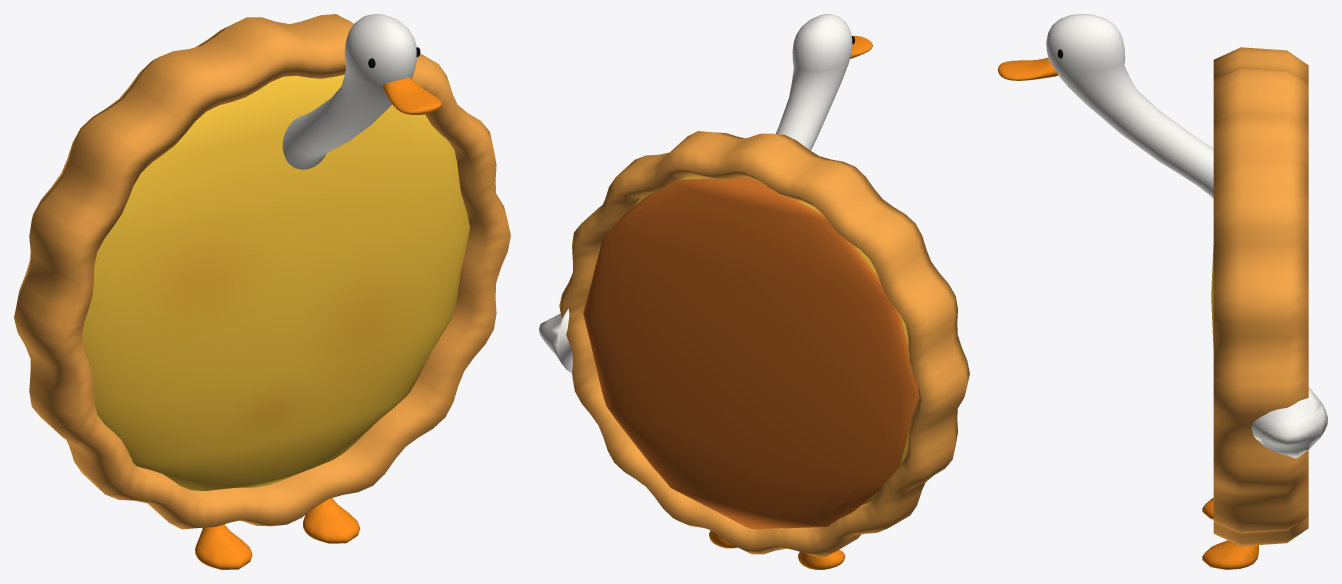
Rendered from duck-eggtart.glb.
3 renders of one model, left to right at view 1: azimuth 30°, elevation 25°; view 2: azimuth 150°, elevation 25°; view 3: azimuth 270°, elevation 25°, orthographic. The views are drawn at different scales.
Visible parts, largest first — view 1: duck-eggtart; view 2: duck-eggtart; view 3: duck-eggtart.
Part boxes in pixels (x1,y1,x2,y2): duck-eggtart: (14, 14, 510, 569); duck-eggtart: (539, 14, 969, 569); duck-eggtart: (998, 14, 1327, 569).
Bounding box in the file's own units: 0.8842 × 1 × 0.5598.
1 material, 1 textured.
